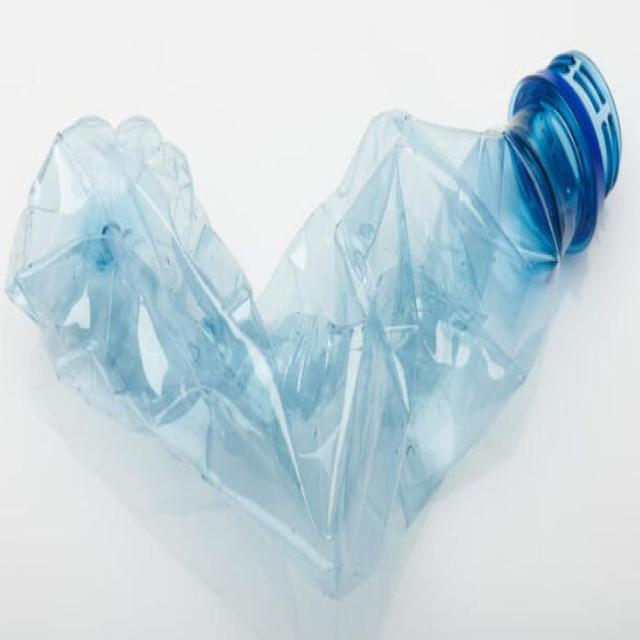general: (4, 47, 622, 599)
